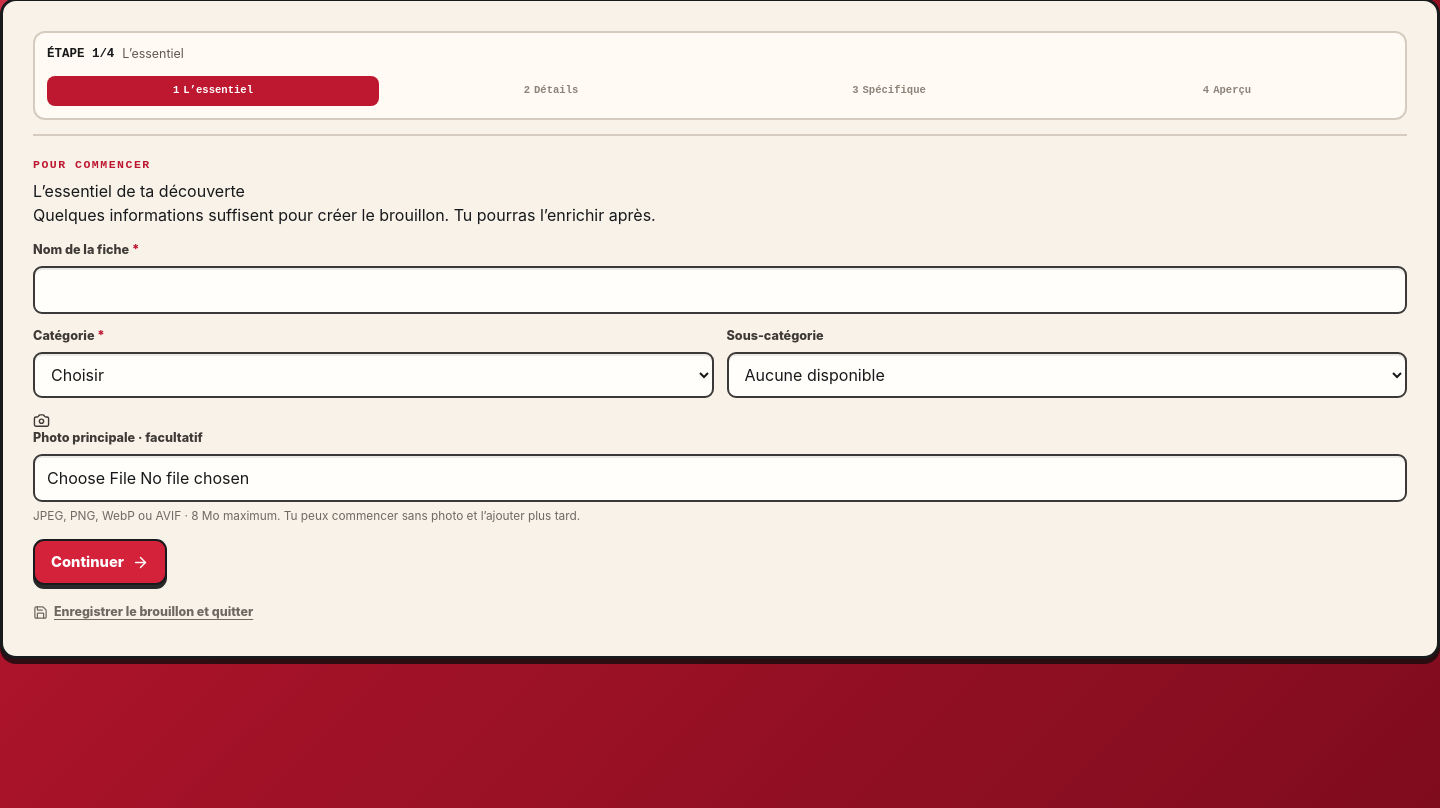
Test: capture form wizard › keeps aroma families collapsed and shows direct search results
Type "Hash Rosin" into the field labelled "Nom de la fiche *".
click(720, 290); type("Hash Rosin")  # box x1=33 y1=266 x2=1407 y2=314
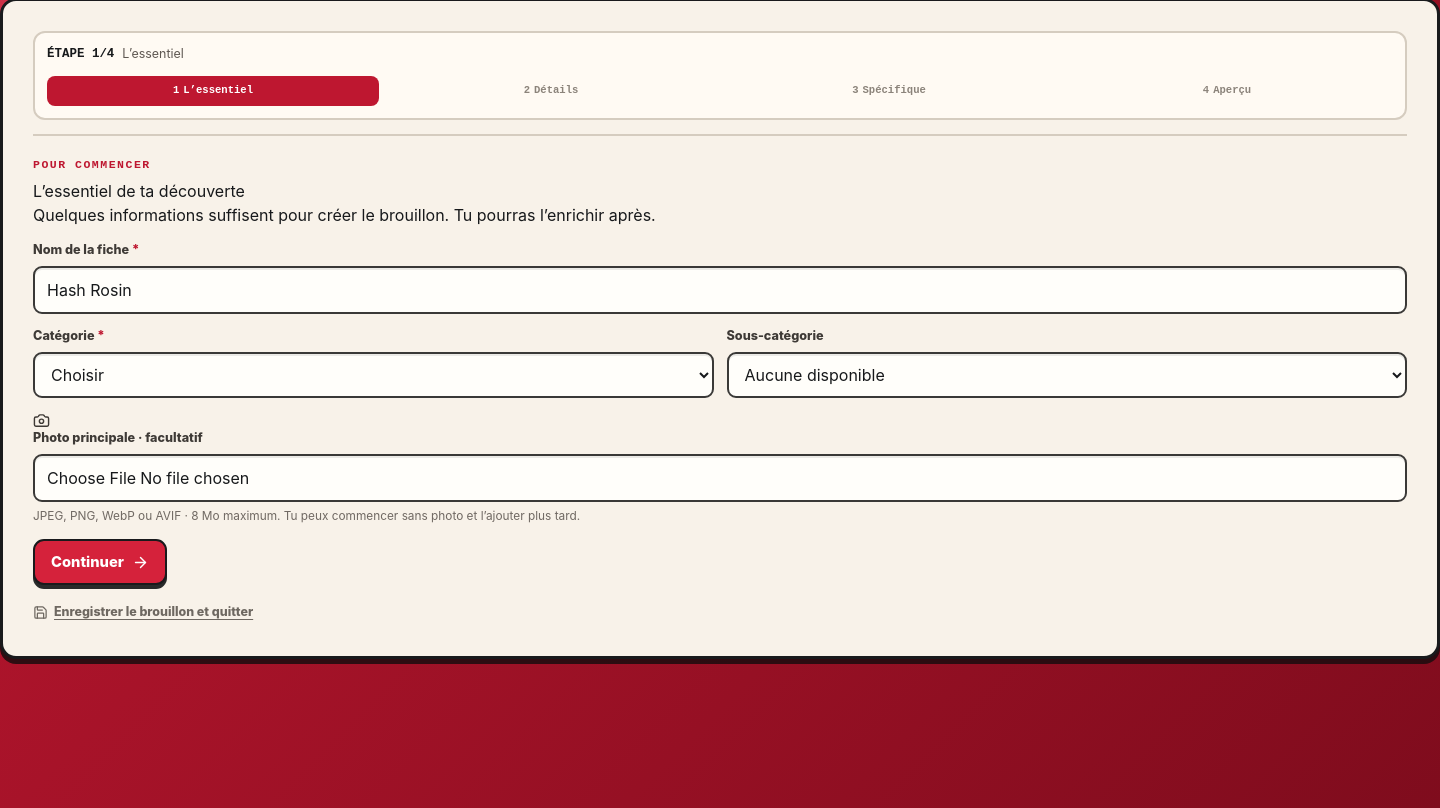
Select "Hash" in the dropdown labelled "Catégorie *" at (373, 375), box x1=33 y1=352 x2=714 y2=398
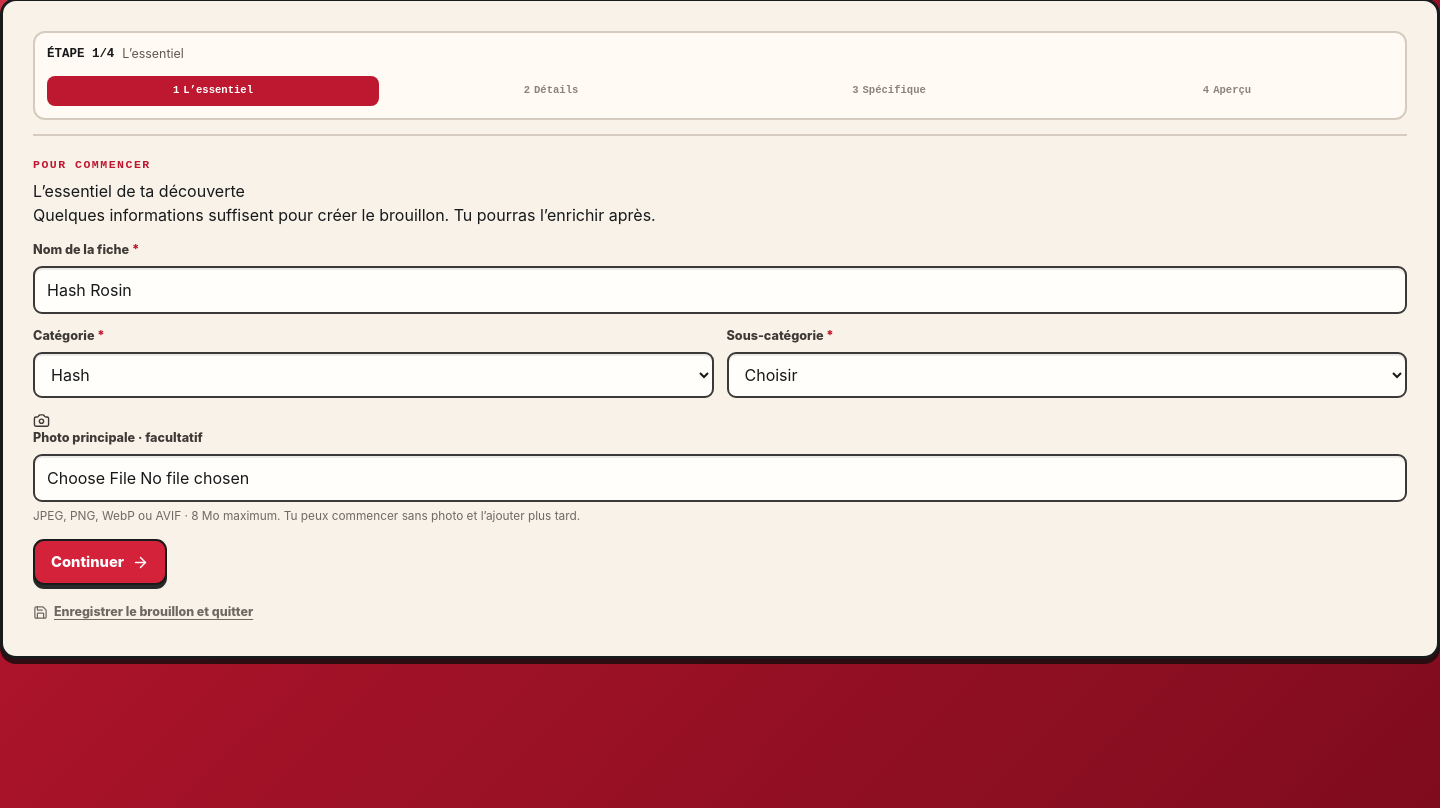
Select "Hash Rosin" in the dropdown labelled "Sous-catégorie *" at (1067, 375), box x1=726 y1=352 x2=1407 y2=398
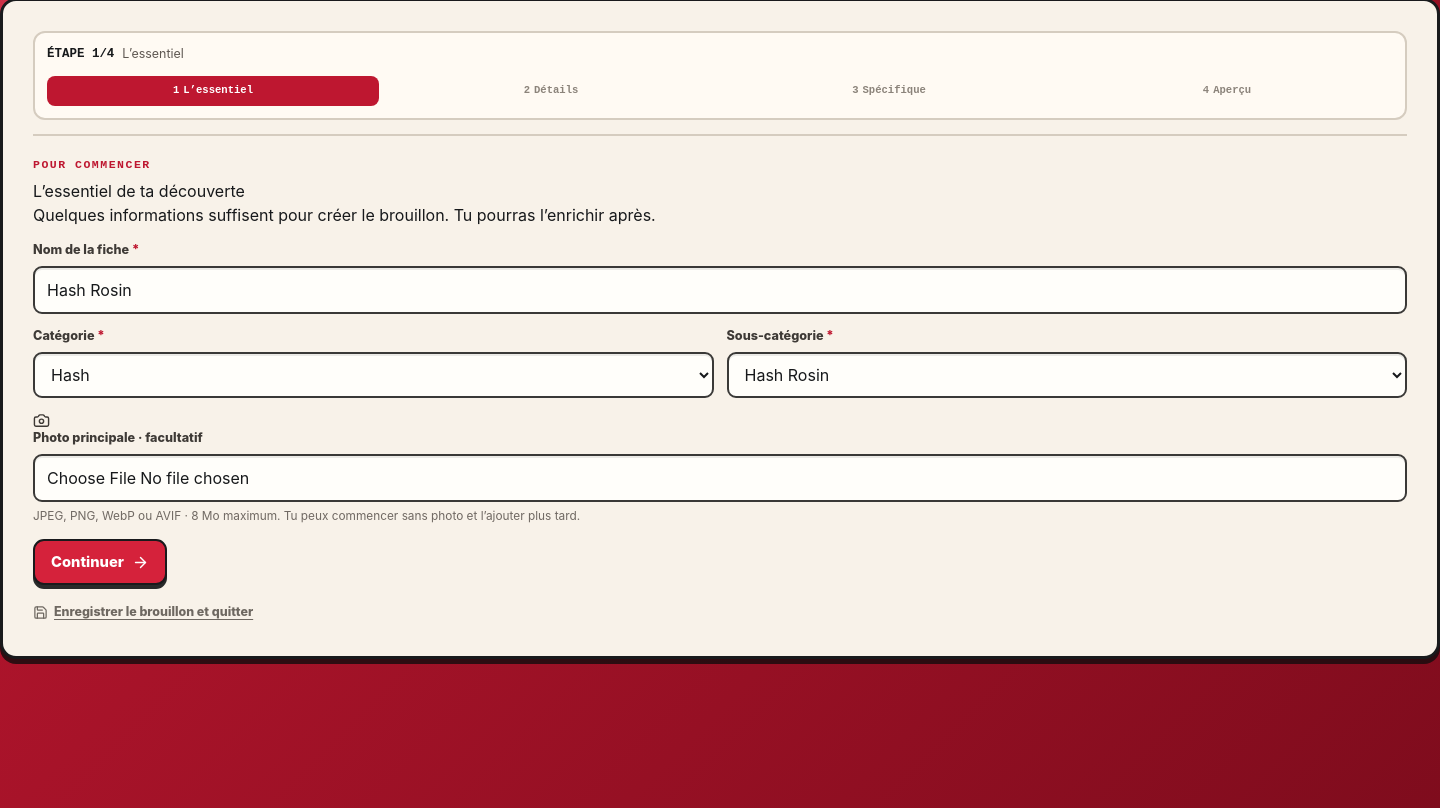
Click the button "Continuer".
click(100, 562)  # box x1=33 y1=540 x2=167 y2=586
(page scrolled)
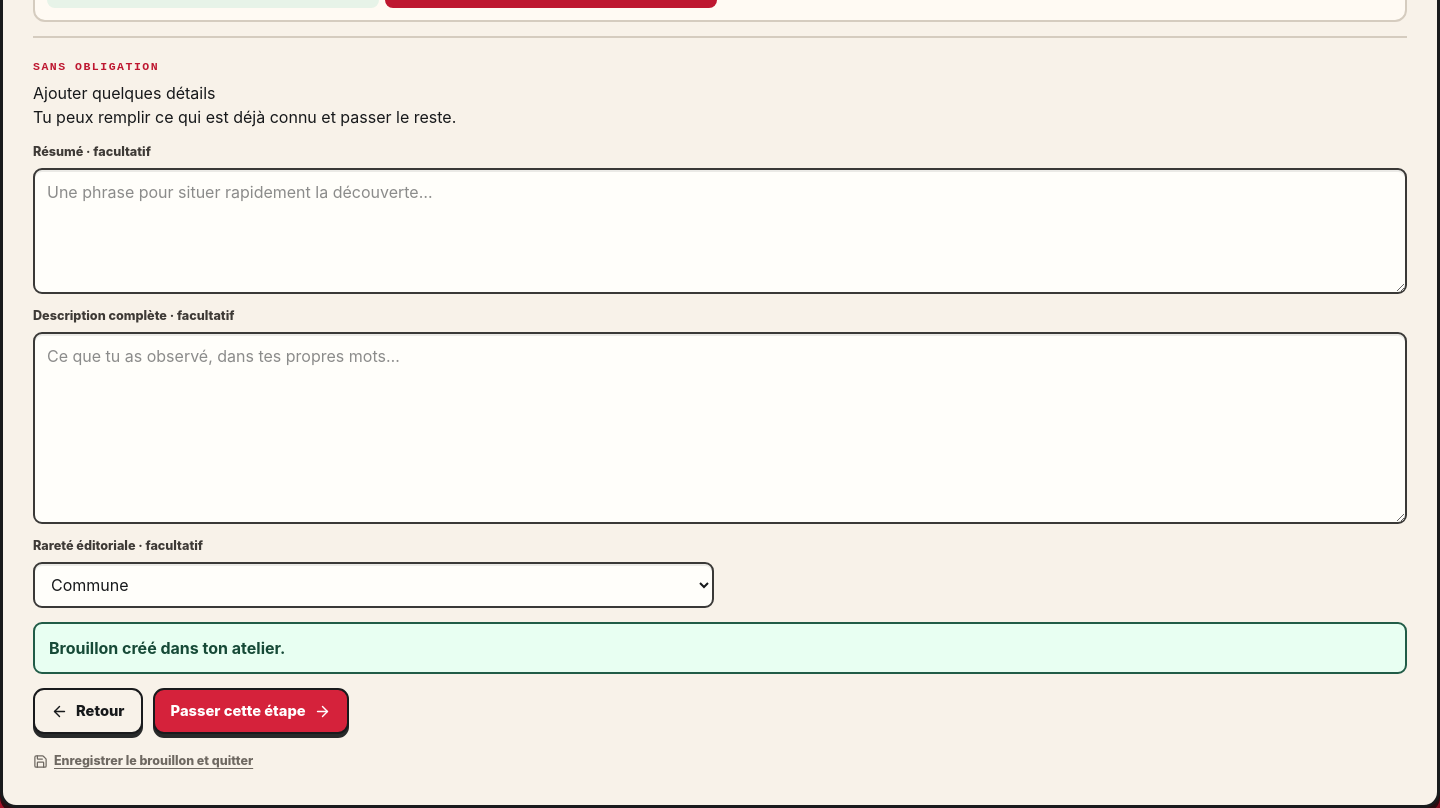
expect the heading "Ajouter quelques détails" is shown: met, box x1=33 y1=83 x2=216 y2=103
Click the button "Passer cette étape".
click(251, 711)  # box x1=153 y1=688 x2=349 y2=734
(page scrolled)
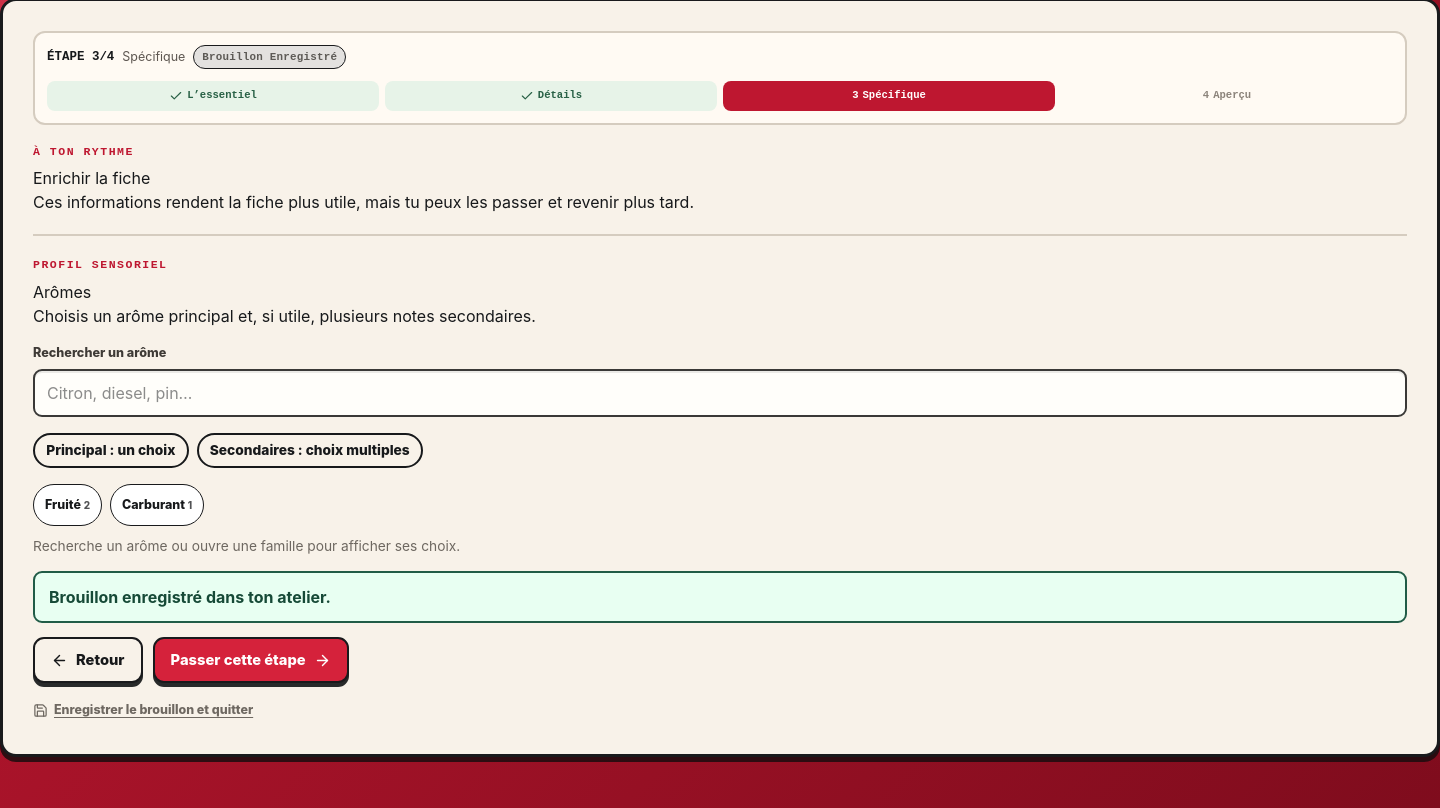
expect the heading "Enrichir la fiche" is shown: met, box x1=33 y1=168 x2=150 y2=188
Type "diesel" into the search field labelled "Rechercher un arôme".
click(720, 393); type("diesel")  # box x1=33 y1=369 x2=1407 y2=417
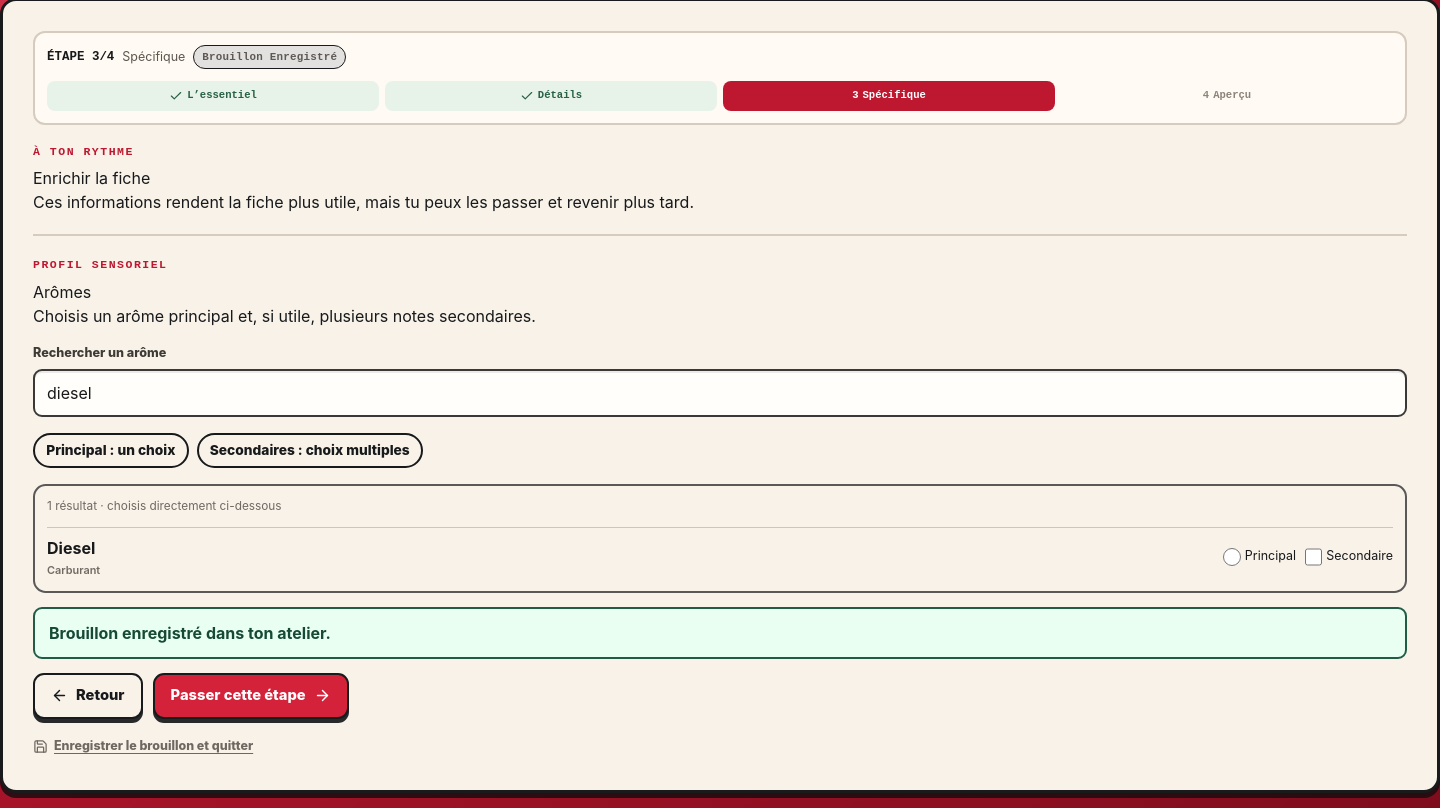
expect the text "Diesel" is shown: met, box x1=47 y1=538 x2=95 y2=558
